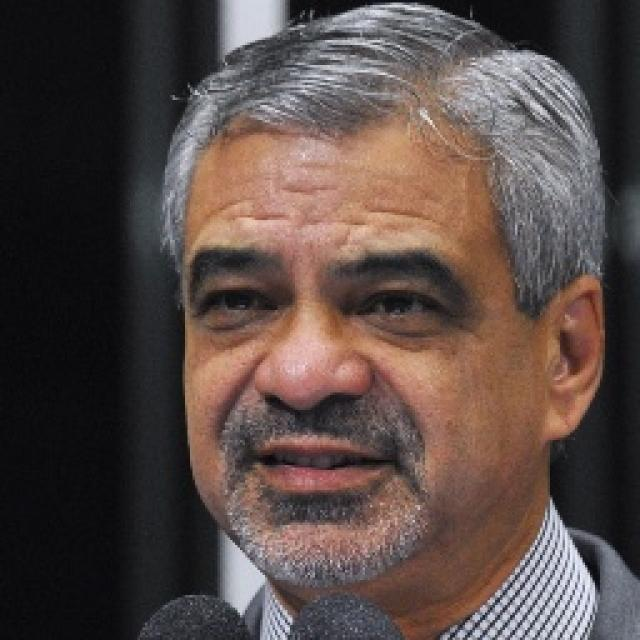earlobe: (546, 274, 605, 443)
